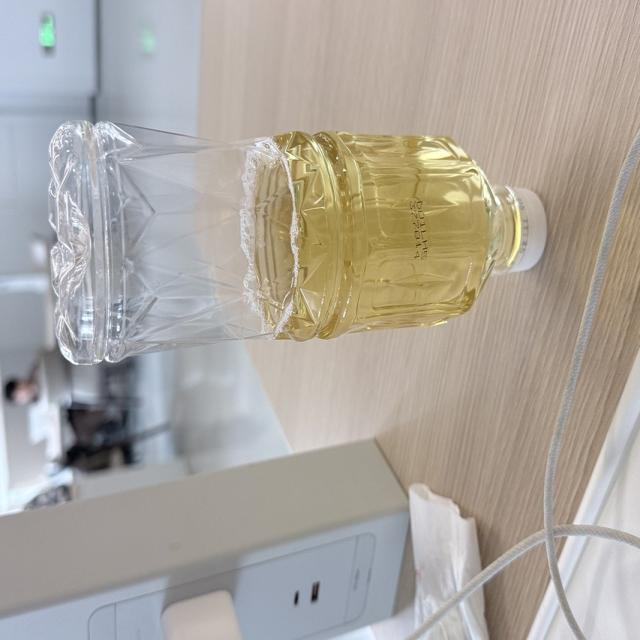medium: (50, 121, 542, 363)
